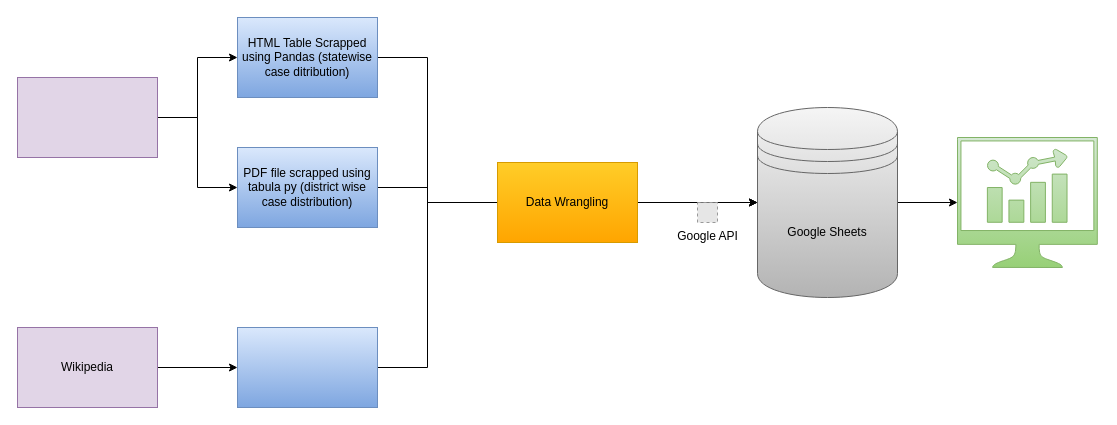
Image size: 1117x425. Some labels were removed from this diagram. Grey dashed boxes stand in for pictures. The centre of each missing label's shape, as x and y in pixels:
Dashboard for visualization: point (1026, 202)
HTML table scrapped using Pandas (population, state code): point (307, 367)
Ministry of health and family welfare: point (87, 117)
